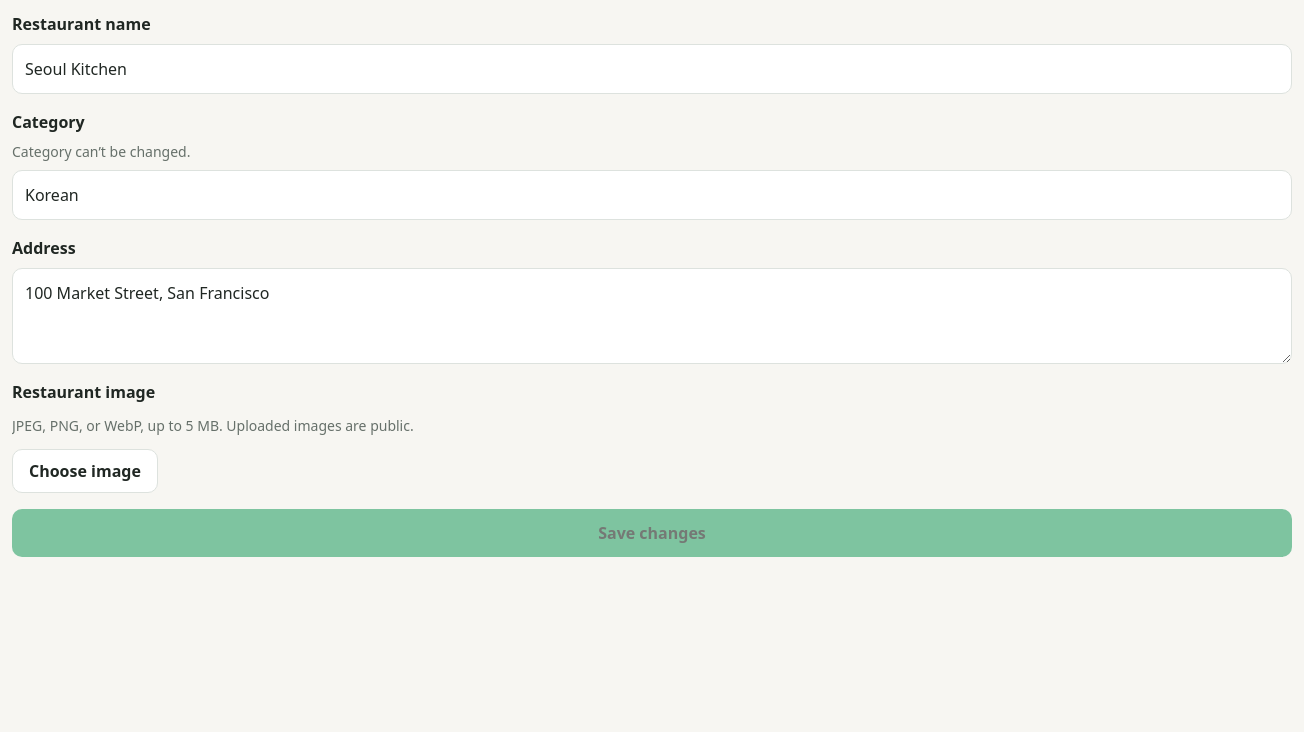
RestaurantSettingsForm › keeps Category read-only, reports dirty state, and resets after save
Expected: the field labelled "Category" is disabled, [12, 170, 1292, 220]
Expected: the text "Category can’t be changed." is shown, [12, 142, 190, 161]
Replace the text in the field labelled "Restaurant name" with "Updated restaurant" at (652, 69), box [12, 44, 1292, 94]
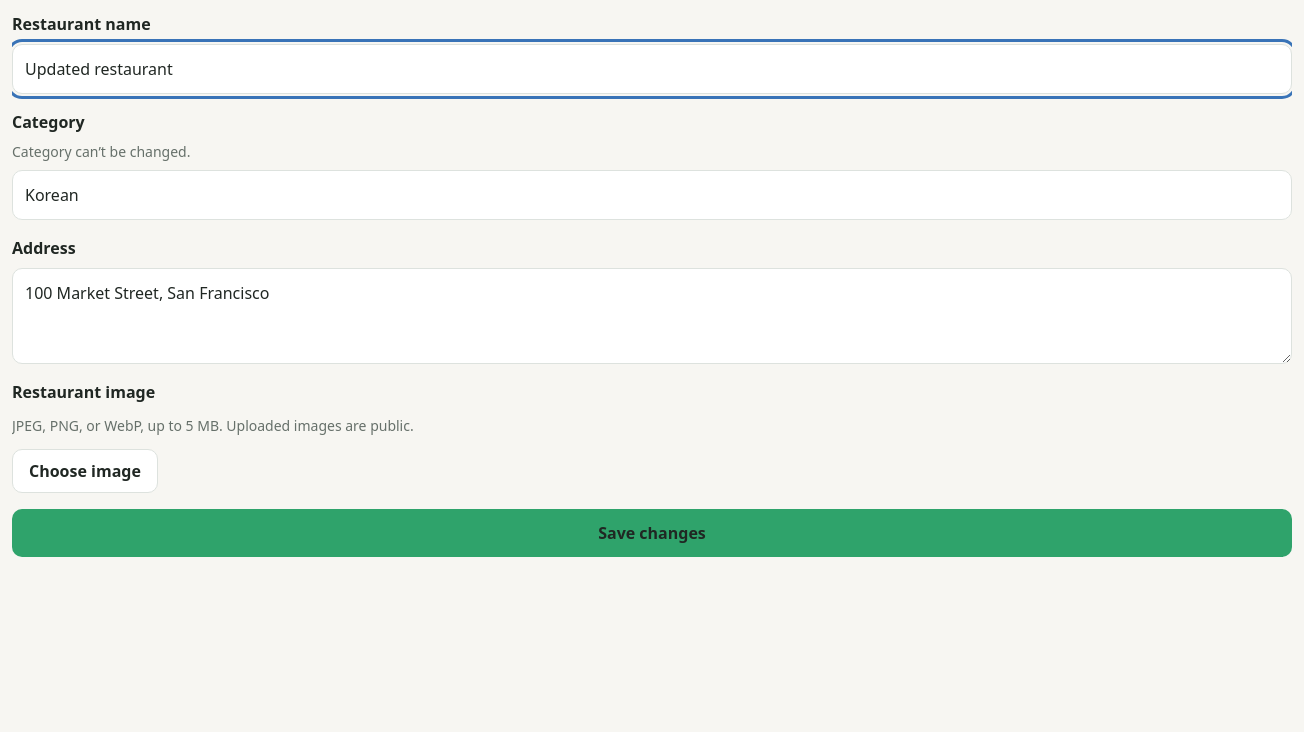
Click the button "Save changes" at (652, 533), box [12, 509, 1292, 557]
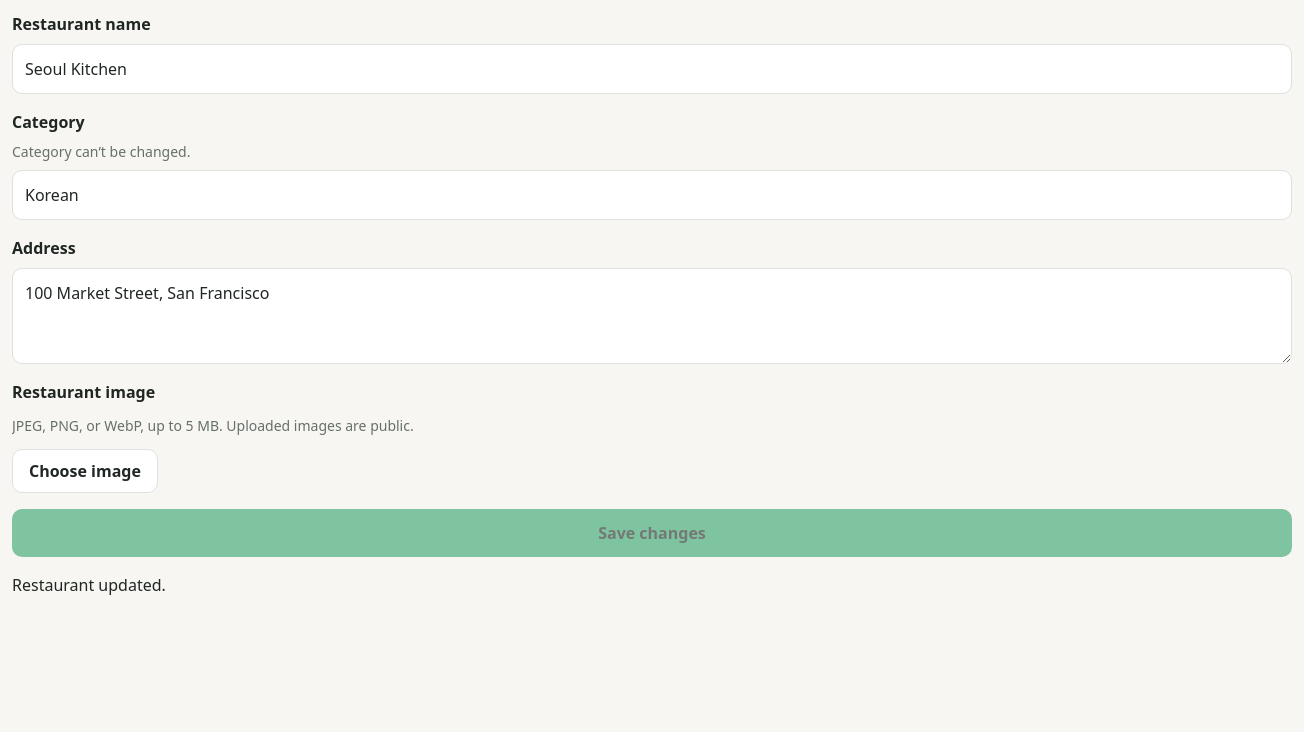
Expected: the text "Restaurant updated." is shown, [12, 574, 166, 596]
Expected: the button "Save changes" is disabled, [12, 509, 1292, 557]
